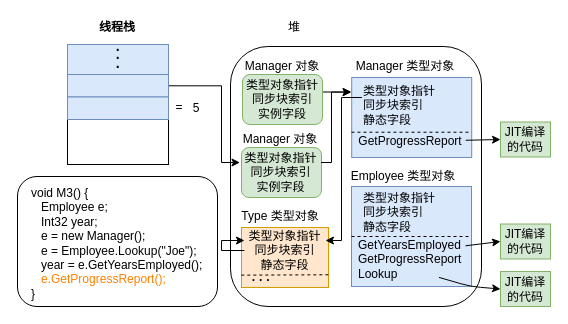
The diagram is 568 pixels wide and 324 high, and some of its shapes have lost their labels. Here are the shapes that lost their labels. From the top down, the centre of each, then its label:
the point at 117,85: e(Employee)
the point at 117,108: year(Int32)
